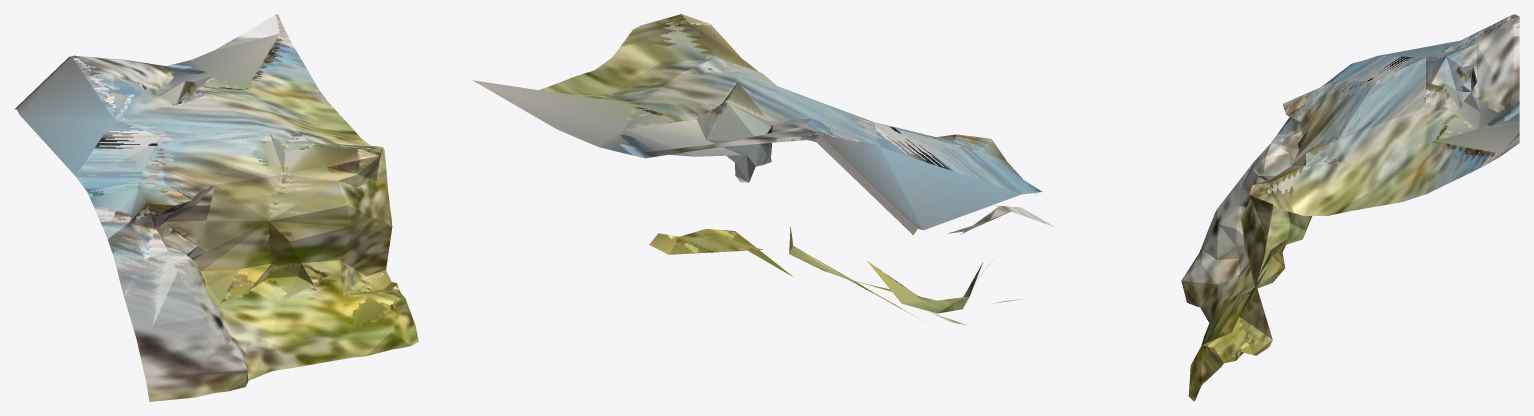
3 renders of one model, left to right at view 1: azimuth 30°, elevation 25°; view 2: azimuth 150°, elevation 25°; view 3: azimuth 270°, elevation 25°, orthographic. The views are drawn at different scales.
Size of the model in its own units: 1.67 by 1.42 by 1.61.
3 materials, 3 textured.
